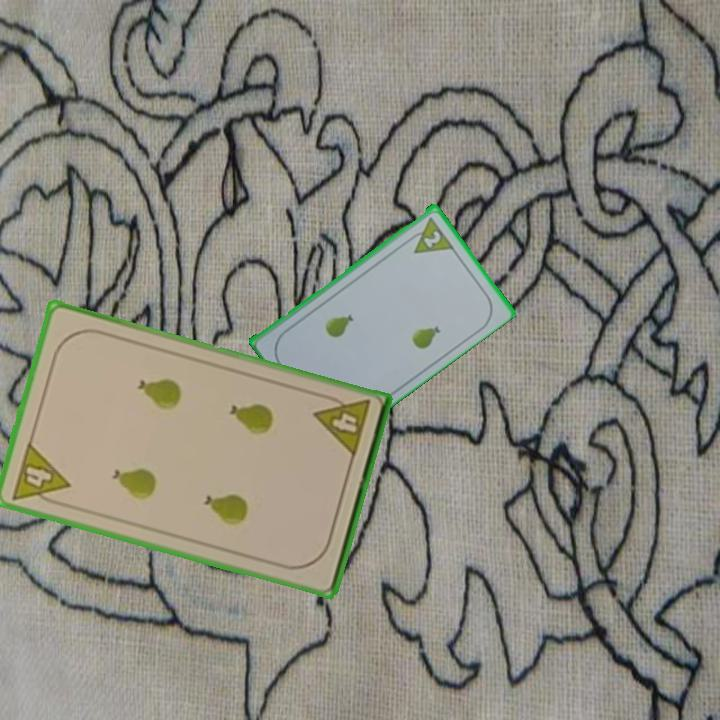2p: (420, 226, 444, 250)
4p: (7, 438, 73, 510), (310, 390, 373, 461)
